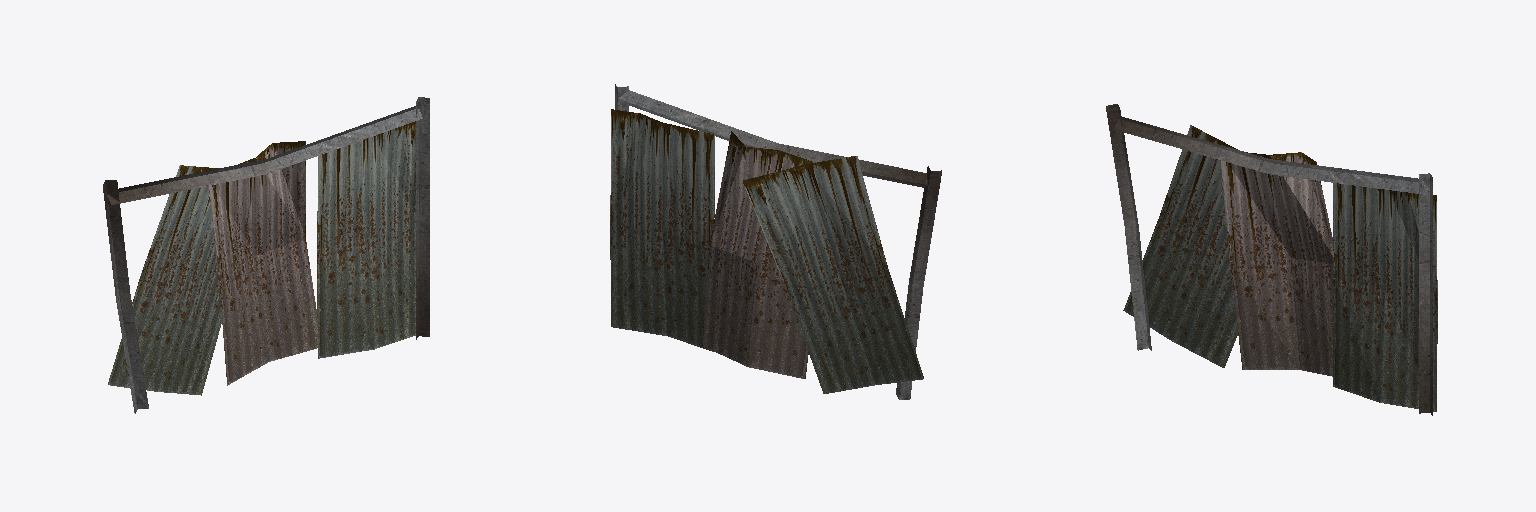
The picture shows the model from 3 angles: view 1: azimuth 30°, elevation 25°; view 2: azimuth 150°, elevation 25°; view 3: azimuth 330°, elevation 25°; orthographic projection.
Visible parts, largest first — view 1: Fence1; view 2: Fence1; view 3: Fence1.
Part boxes in pixels (x1,y1,x2,y2): Fence1: (103, 97, 429, 413); Fence1: (610, 84, 941, 399); Fence1: (1106, 104, 1437, 415).
Size of the model in its own units: 6.31 by 4.62 by 0.7055.
1 materials, 1 textured.